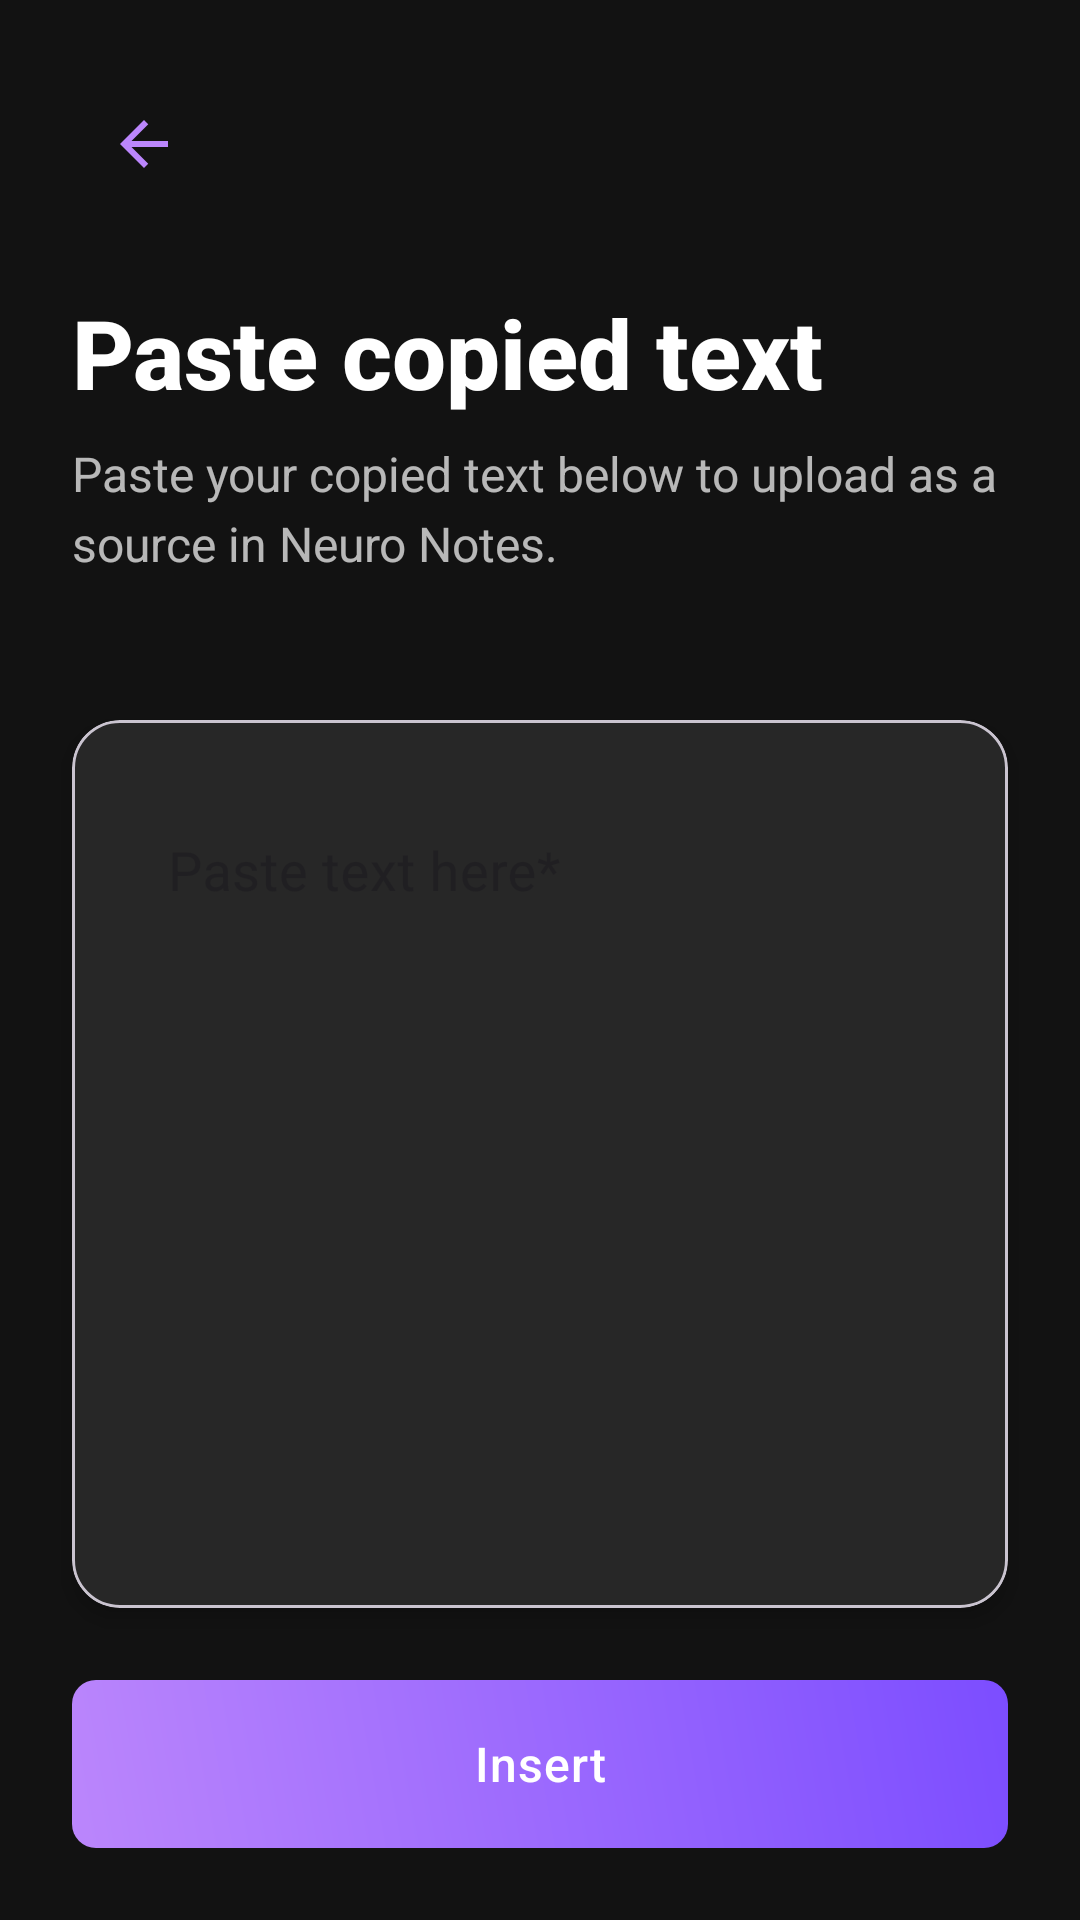

Icon click points for this 1080x1920 phone screenshot, format (x,y):
back: (144,144)
